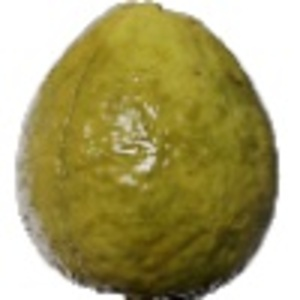goiaba: (10, 3, 283, 299)
